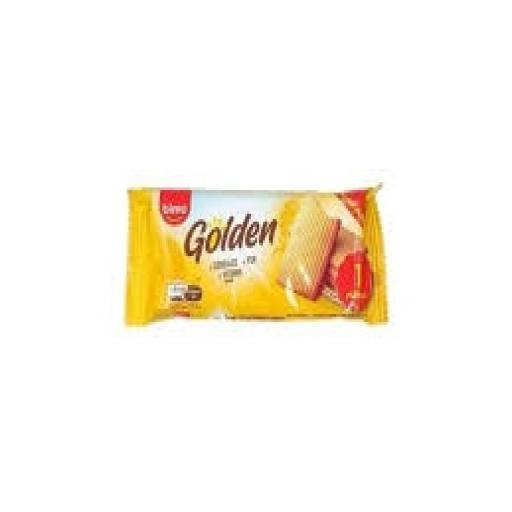golden: (116, 164, 409, 386)
